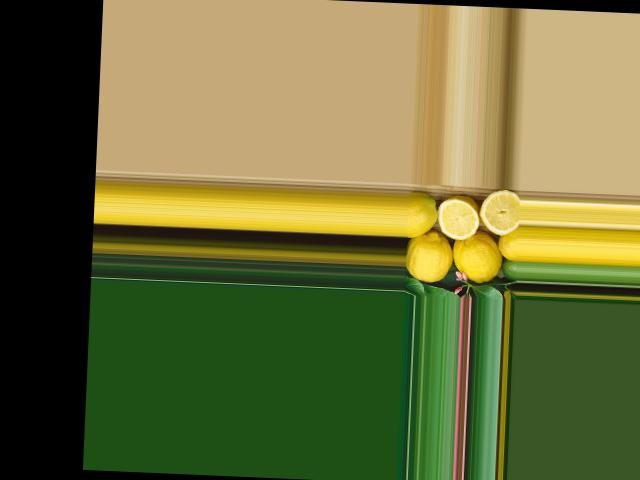lemon: (405, 193, 444, 243)
